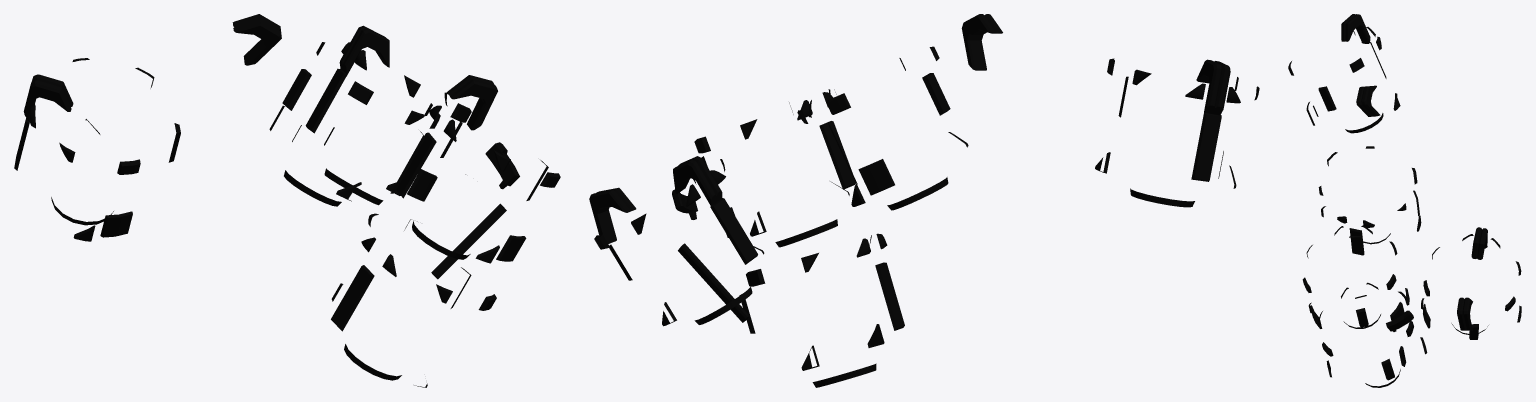
File: env_container_01_06.glb
The picture shows the model from 3 angles, left to right: view 1: azimuth 30°, elevation 25°; view 2: azimuth 150°, elevation 25°; view 3: azimuth 270°, elevation 25°; orthographic projection. The views are drawn at different scales.
Visible parts, largest first — view 1: env_container_01_04_LOD0 (×2), env_container_01_01_LOD0, env_container_01_02_LOD0, env_container_01_03_LOD0, env_container_01_clamp (2), env_container_01_clamp (1), env_container_01_clamp (3), env_container_01_clamp (4), env_container_01_connector_broken_02 (1), env_container_01_connector_broken_01 (1); view 2: env_container_01_04_LOD0 (×2), env_container_01_03_LOD0, env_container_01_02_LOD0, env_container_01_01_LOD0, env_container_01_clamp (1), env_container_01_clamp (3), env_container_01_clamp (2), env_container_01_clamp (4), env_container_01_connector_broken_02 (1); view 3: env_container_01_04_LOD0 (×2), env_container_01_01_LOD0, env_container_01_03_LOD0, env_container_01_02_LOD0, env_container_01_clamp (4), env_container_01_clamp (2), env_container_01_clamp (1), env_container_01_clamp (3), env_container_01_connector_broken_01 (1).
Part boxes in pixels (x1,y1,x2,y2): env_container_01_04_LOD0 (×2): (14,42,471,241); env_container_01_01_LOD0: (396,92,560,263); env_container_01_02_LOD0: (331,213,496,387); env_container_01_03_LOD0: (269,42,440,206); env_container_01_clamp (2): (232,14,281,65); env_container_01_clamp (1): (447,75,497,130); env_container_01_clamp (3): (339,25,389,76); env_container_01_clamp (4): (23,74,73,120); env_container_01_connector_broken_02 (1): (431,203,506,279); env_container_01_connector_broken_01 (1): (485,142,519,189); env_container_01_04_LOD0 (×2): (594,58,1259,326); env_container_01_03_LOD0: (797,46,968,210); env_container_01_02_LOD0: (739,233,904,387); env_container_01_01_LOD0: (694,89,855,247); env_container_01_clamp (1): (589,187,636,243); env_container_01_clamp (3): (673,156,722,206); env_container_01_clamp (2): (961,14,1002,70); env_container_01_clamp (4): (1196,59,1230,115); env_container_01_connector_broken_02 (1): (678,243,749,322); env_container_01_04_LOD0 (×2): (1288,27,1521,339); env_container_01_01_LOD0: (1302,225,1409,328); env_container_01_03_LOD0: (1318,146,1421,255); env_container_01_02_LOD0: (1319,282,1427,387); env_container_01_clamp (4): (1341,14,1370,43); env_container_01_clamp (2): (1356,85,1380,116); env_container_01_clamp (1): (1457,297,1472,330); env_container_01_clamp (3): (1471,227,1487,259); env_container_01_connector_broken_01 (1): (1386,310,1413,331).
Size of what is drawn, in the model's own units: 6.37 by 4.38 by 3.61.
Materials: 2 (2 with a texture image).
